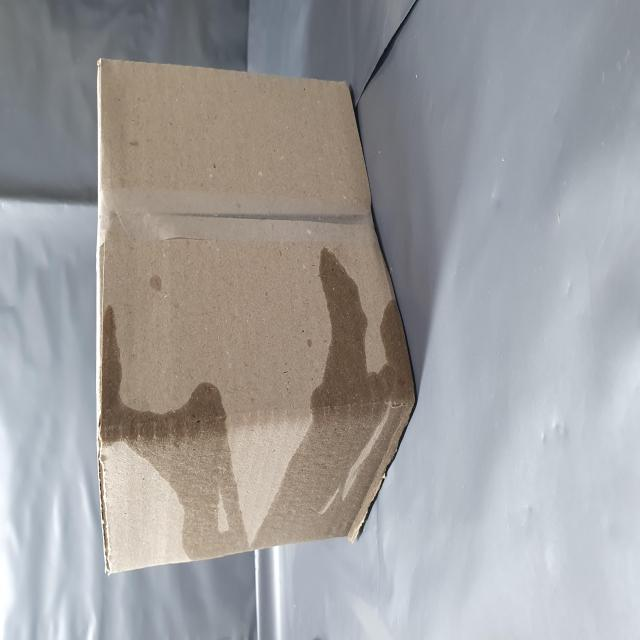wet: (32, 187, 225, 640)
